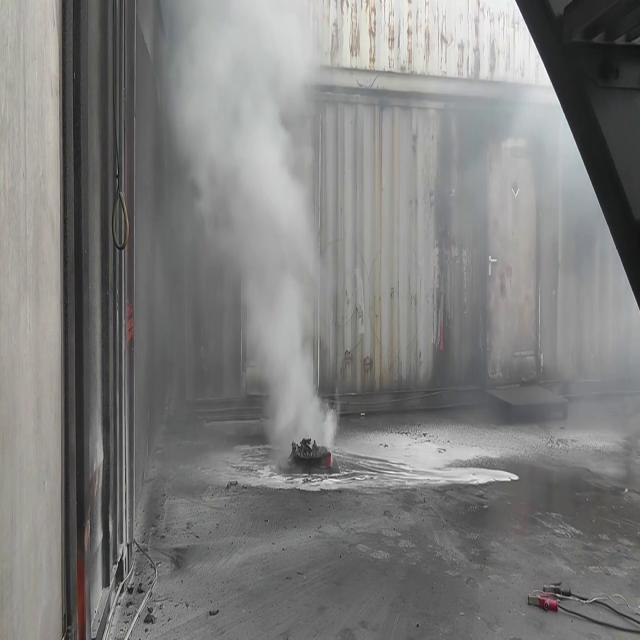Smoke: (136, 1, 340, 454)
